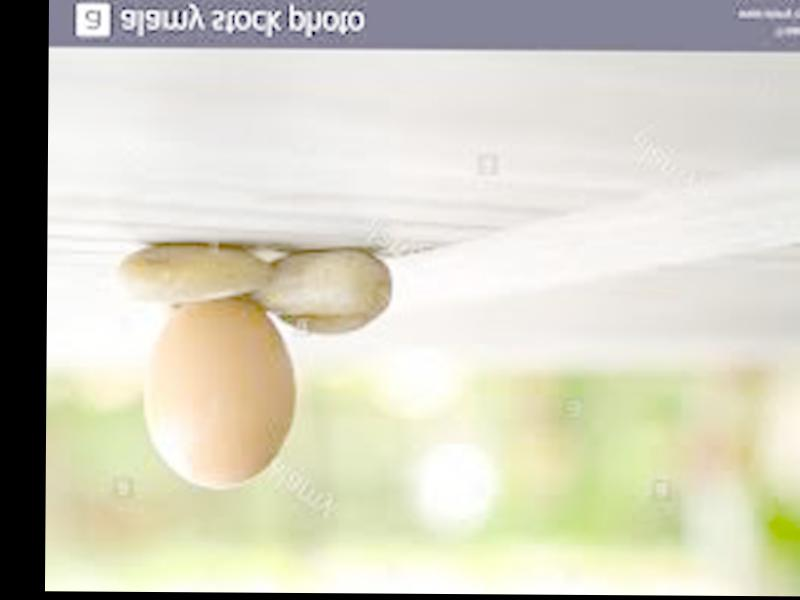Eggs: (140, 297, 297, 486)
